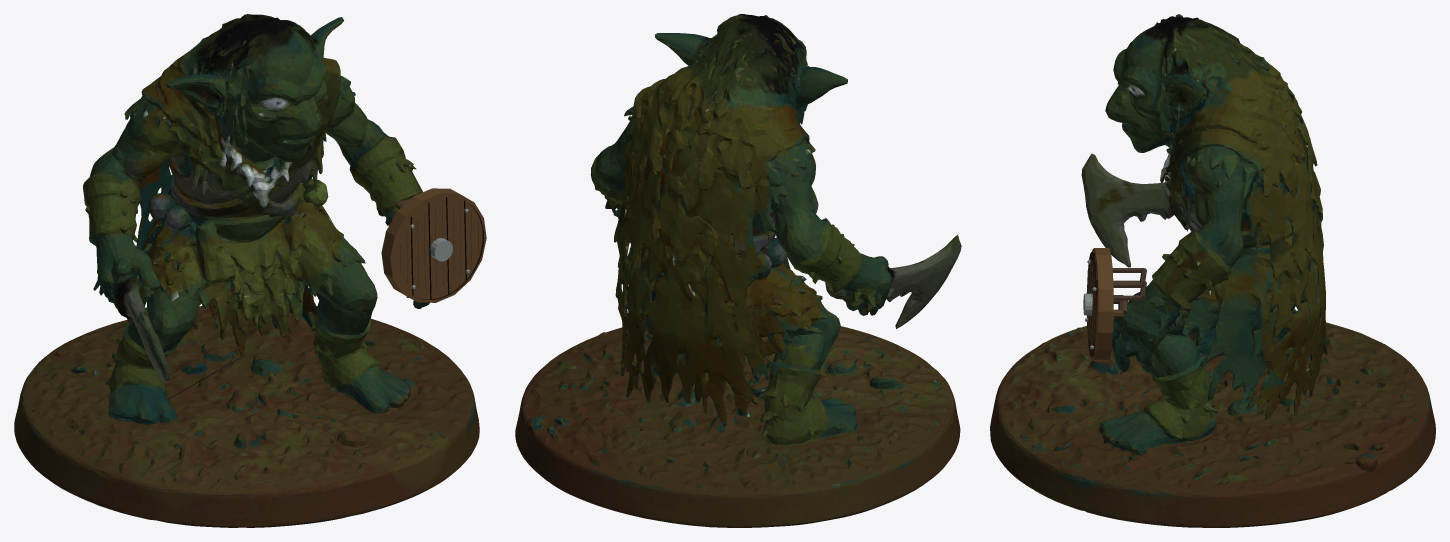
The model's file is goblinCombatente_machado_basico_com_escudo.glb.
The picture shows the model from 3 angles, left to right: view 1: azimuth 30°, elevation 25°; view 2: azimuth 150°, elevation 25°; view 3: azimuth 270°, elevation 25°; orthographic projection. The views are drawn at different scales.
Visible parts, largest first — view 1: goblinCombatente_machado_basico_com_escudo; view 2: goblinCombatente_machado_basico_com_escudo; view 3: goblinCombatente_machado_basico_com_escudo.
Part boxes in pixels (x1=…): goblinCombatente_machado_basico_com_escudo: x1=14, y1=14, x2=486, y2=527; goblinCombatente_machado_basico_com_escudo: x1=515, y1=14, x2=961, y2=527; goblinCombatente_machado_basico_com_escudo: x1=990, y1=14, x2=1435, y2=527.
Size of the model in its own units: 1.94 by 1.96 by 1.91.
Materials: 11 (6 with a texture image).
